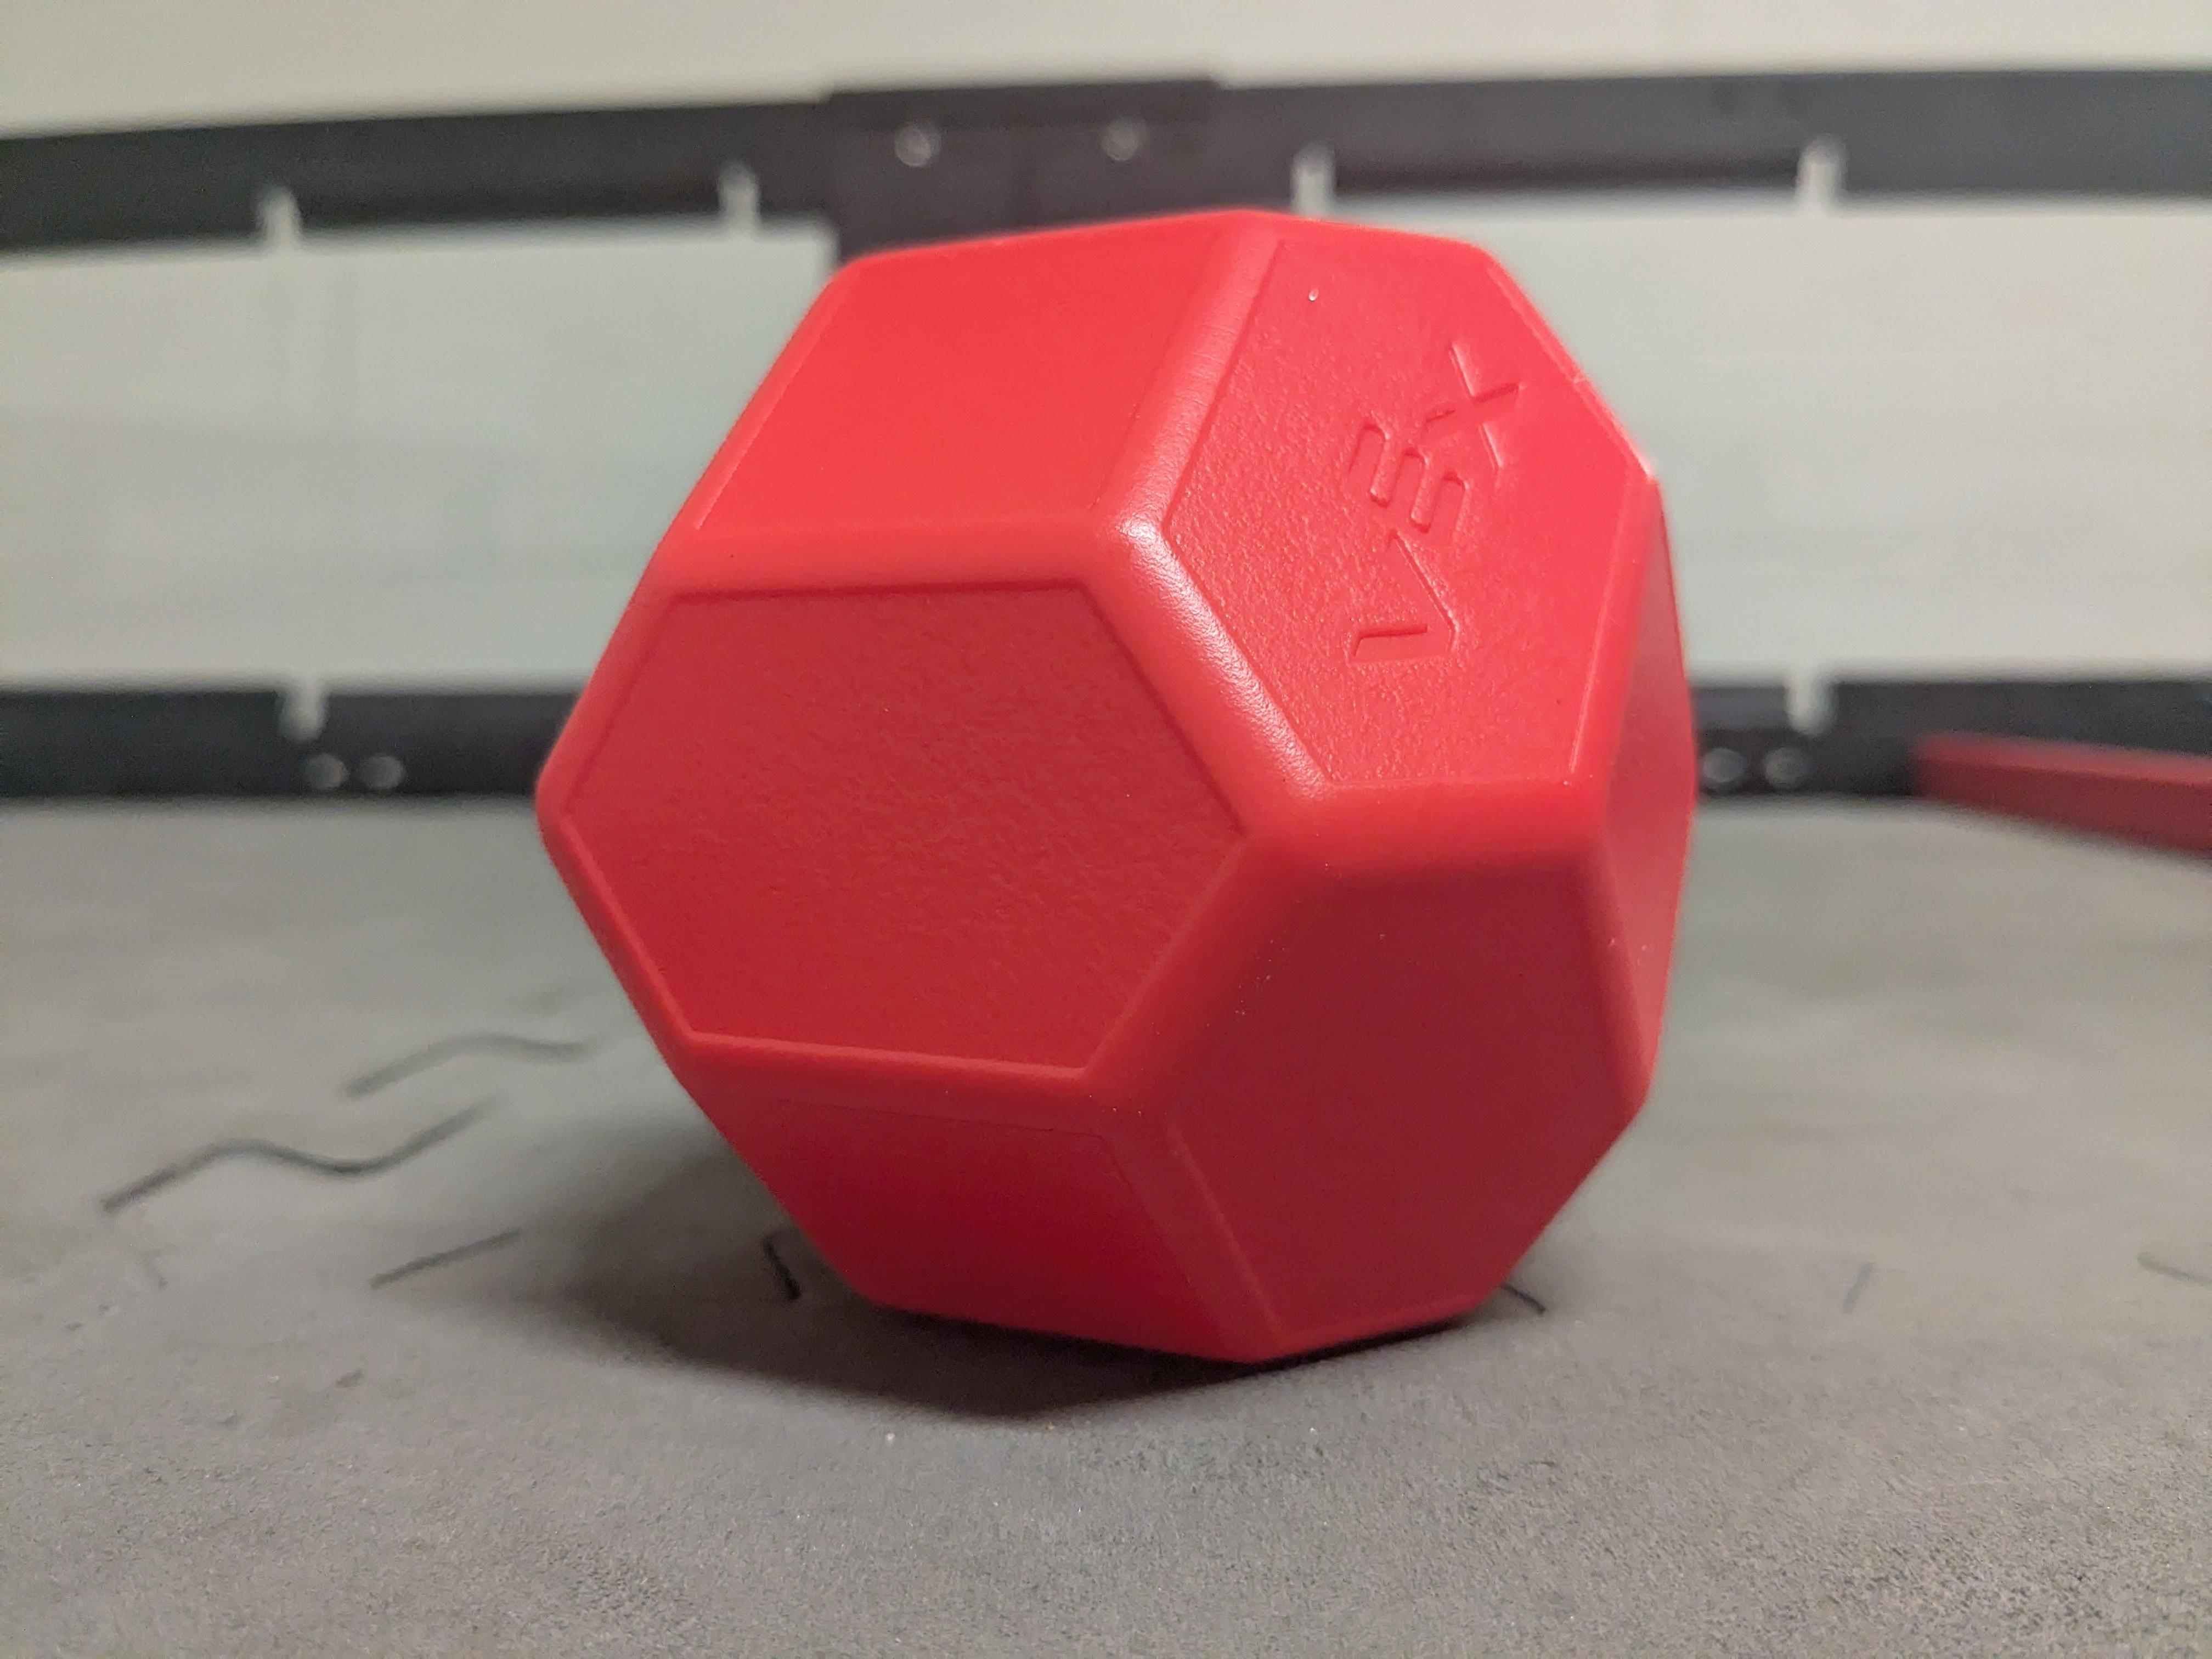Vex-Pieces-RED: (536, 211, 1695, 1359)
